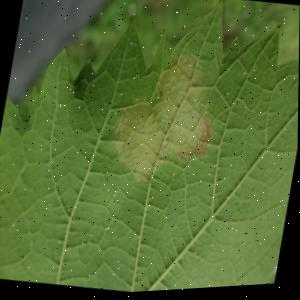Folha: (0, 0, 300, 300)
Fungo: (99, 44, 222, 182), (193, 118, 216, 160), (199, 121, 214, 146), (175, 151, 187, 163)
